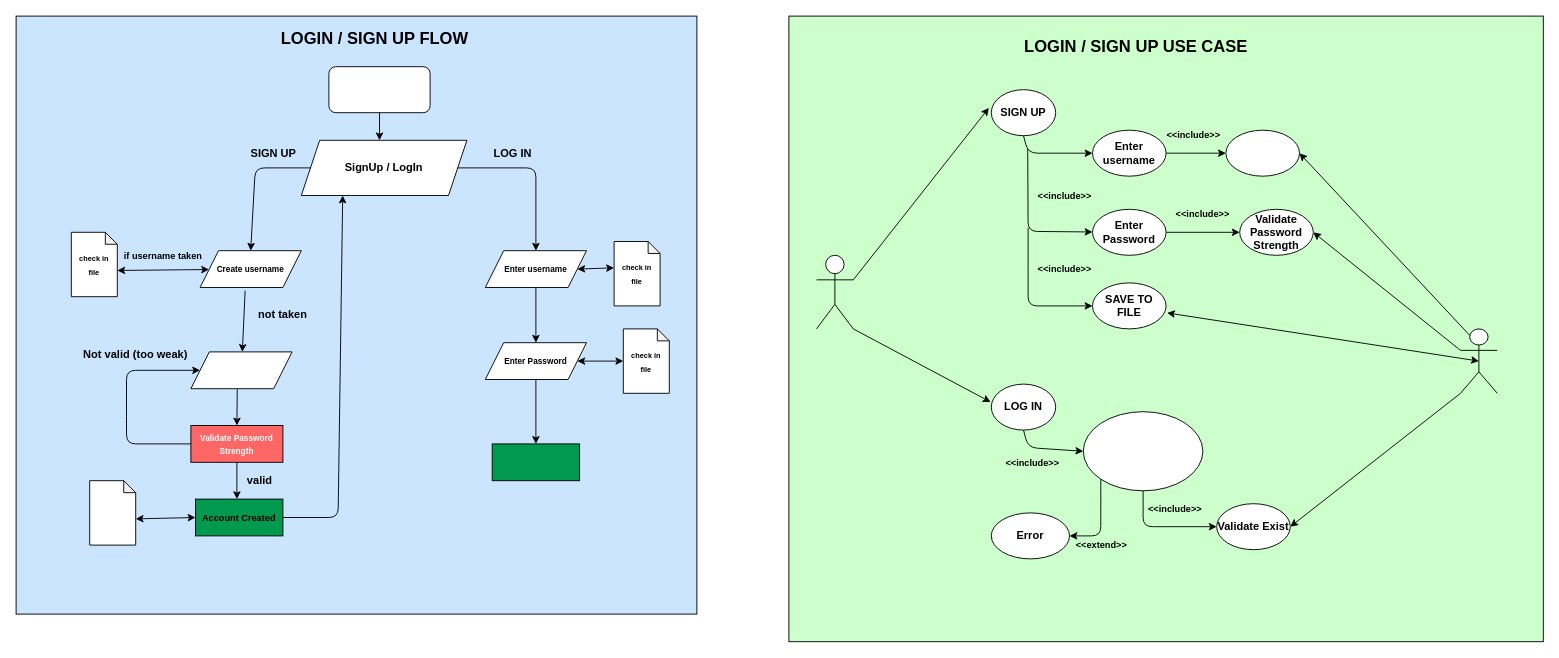
Some shapes in this 1559 by 658 pixel diagram are drawn without their labels. The box of each missing label's shape, as (x1, y1, x2, y2) in pixels:
Check Availability: (1225, 129, 1300, 176)
Create password: (190, 351, 292, 389)
Enter username/Password: (1082, 411, 1203, 491)
FILE: (1460, 328, 1497, 393)
GO TO MAIN MENU: (491, 443, 580, 481)
Start: (328, 66, 430, 113)
Store in file: (89, 480, 136, 545)
User: (816, 254, 853, 329)
